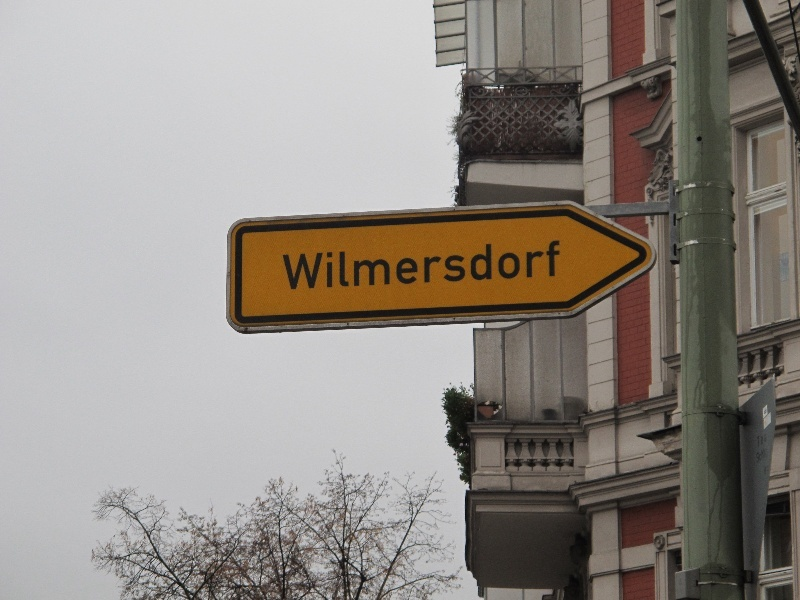text: (545, 242, 561, 290), (289, 242, 304, 290), (305, 242, 320, 290), (321, 242, 336, 290), (337, 242, 352, 290), (353, 242, 368, 290), (369, 242, 384, 290), (385, 242, 400, 290), (401, 242, 416, 290), (417, 242, 432, 290), (433, 242, 448, 290), (449, 242, 464, 290), (465, 242, 480, 290), (481, 242, 496, 290), (497, 242, 512, 290), (513, 242, 528, 290), (529, 242, 544, 290), (282, 242, 288, 290), (756, 444, 768, 464), (758, 431, 768, 447)
